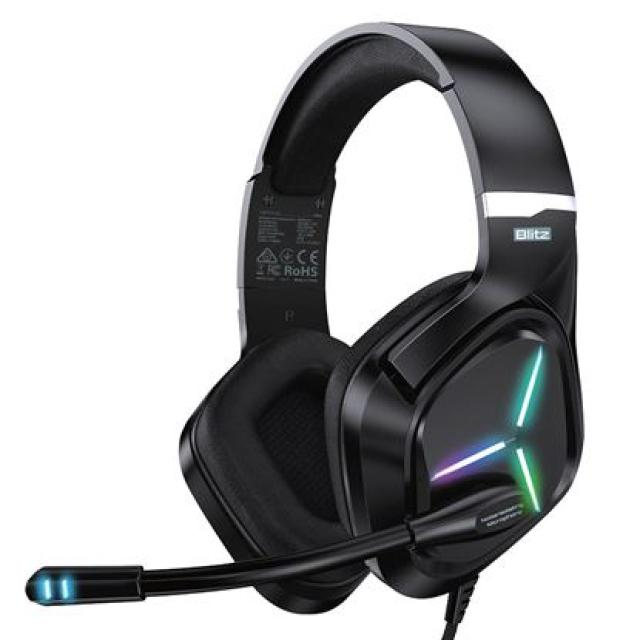headset: (194, 26, 624, 614)
